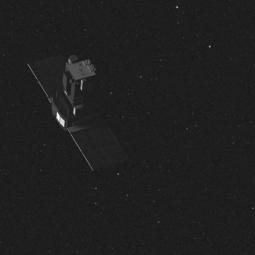soho: (19, 44, 130, 167)
